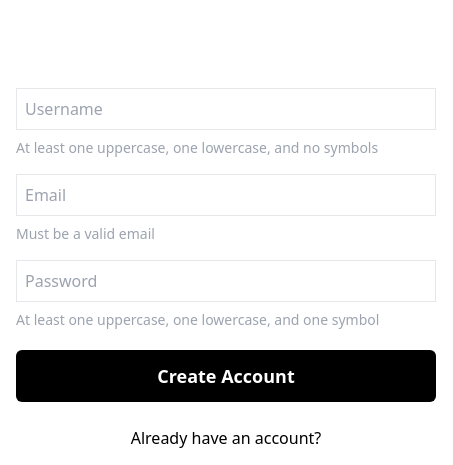
Test: Testing error messages › Create a valid username
In the field with placeholder "Username": (226, 109) [16,88,436,130], type "user"
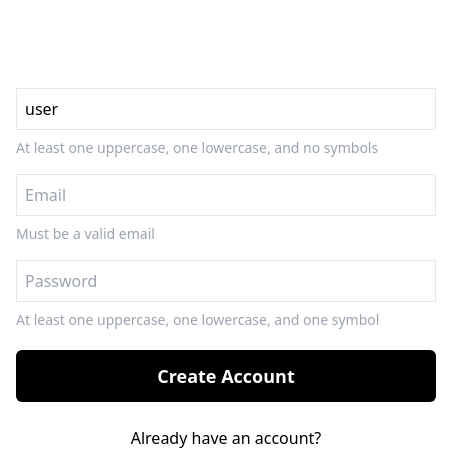
In the field with placeholder "Email": (226, 195) [16,174,436,216], type "XavianMoody1025@gmail.com"
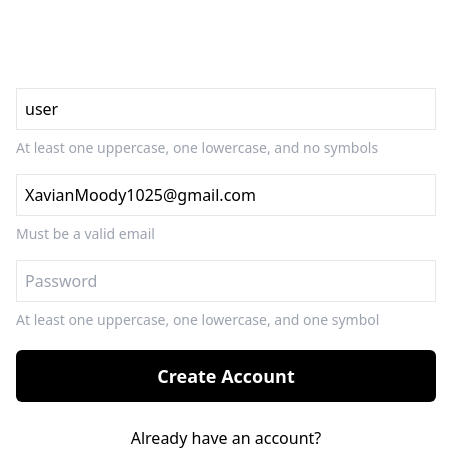
In the password field with placeholder "Password": (226, 281) [16,260,436,302], type "Wwetna123#"
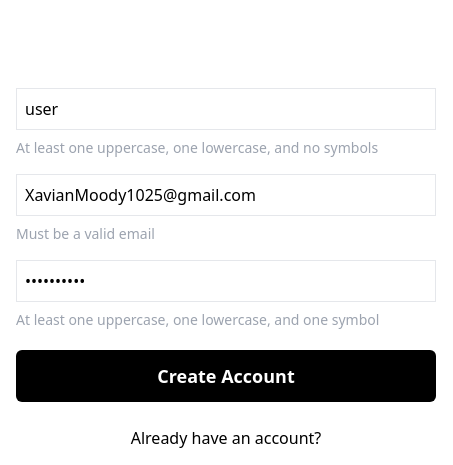
Click the button "Create Account": (226, 376) [16,350,436,402]
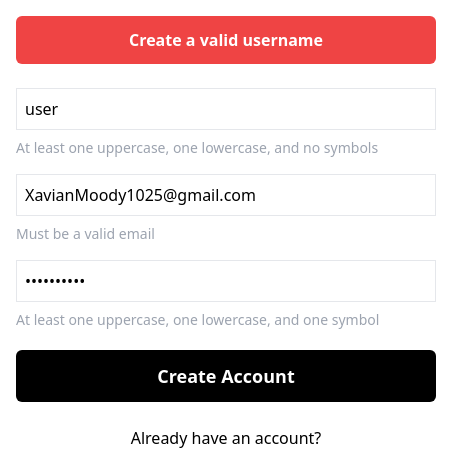
Now the text "Create a valid username" is shown, box [16,16,436,64]
